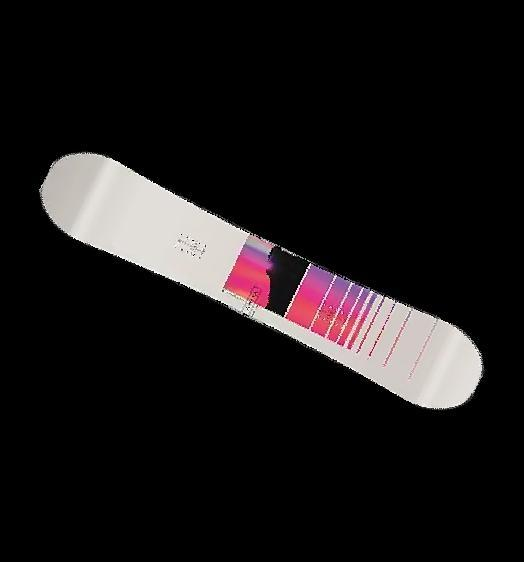Snowboard: (38, 150, 484, 411)
